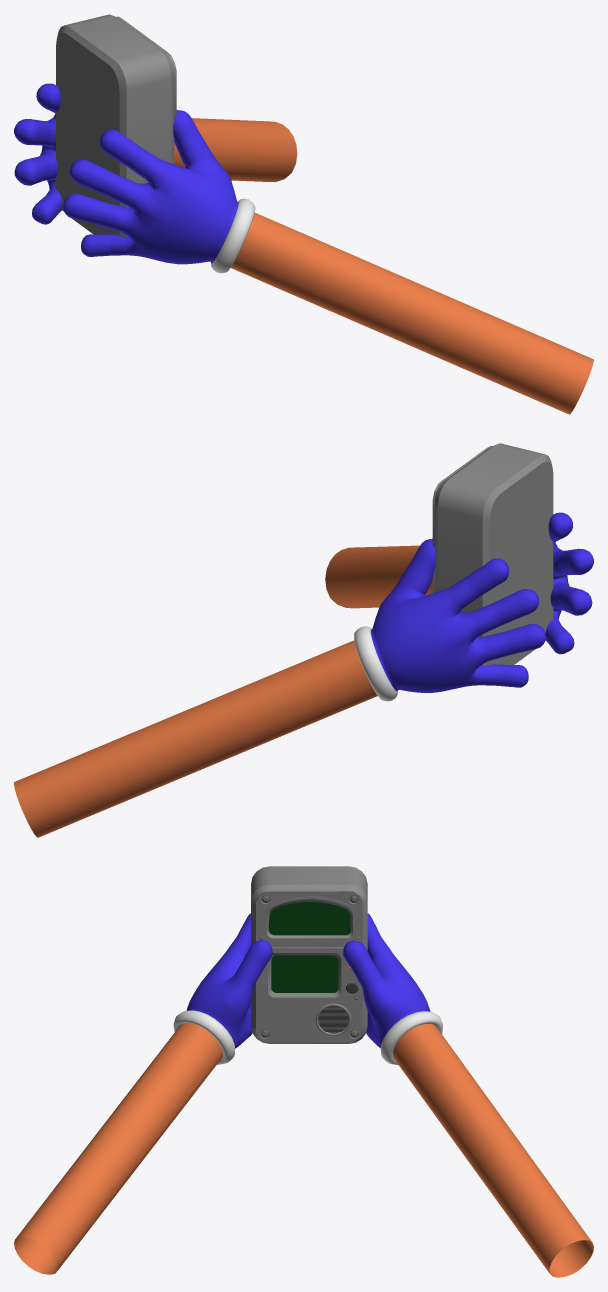
The model's file is trackingDeviceWithHands.fbx.
The picture shows the model from 3 angles, top to bottom: view 1: azimuth 30°, elevation 25°; view 2: azimuth 150°, elevation 25°; view 3: azimuth 270°, elevation 25°; orthographic projection. The views are drawn at different scales.
Parts seen in each view (by area): view 1: SK_Gauntlet.004, Plane, SK_Gauntlet; view 2: SK_Gauntlet, Plane, SK_Gauntlet.004; view 3: SK_Gauntlet.004, SK_Gauntlet, Plane.
Part boxes in pixels (bbox=[...]): SK_Gauntlet.004: bbox=[63, 110, 593, 414]; Plane: bbox=[56, 14, 176, 237]; SK_Gauntlet: bbox=[14, 83, 297, 224]; SK_Gauntlet: bbox=[14, 538, 545, 837]; Plane: bbox=[432, 443, 553, 665]; SK_Gauntlet.004: bbox=[325, 512, 593, 654]; SK_Gauntlet.004: bbox=[14, 913, 272, 1274]; SK_Gauntlet: bbox=[343, 913, 593, 1277]; Plane: bbox=[251, 866, 367, 1043].
Bounding box in the file's own units: 448 × 350 × 665.
